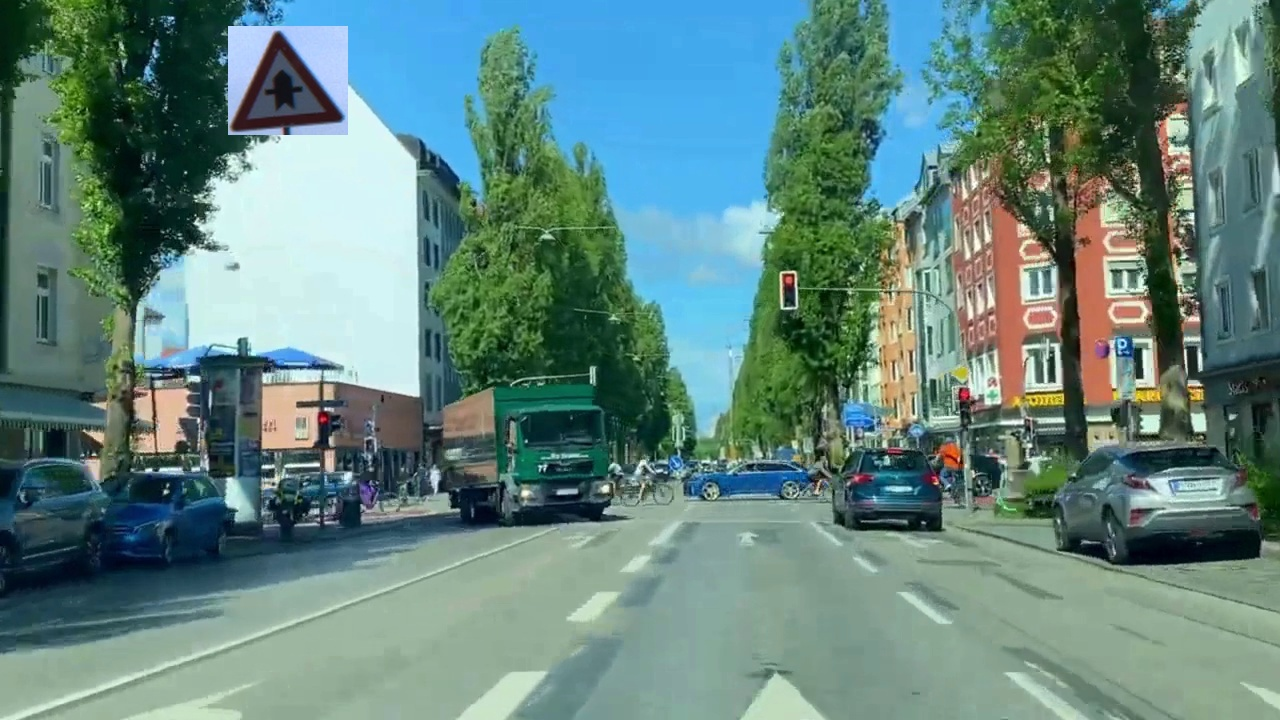Right-of-way: (228, 26, 348, 135)
